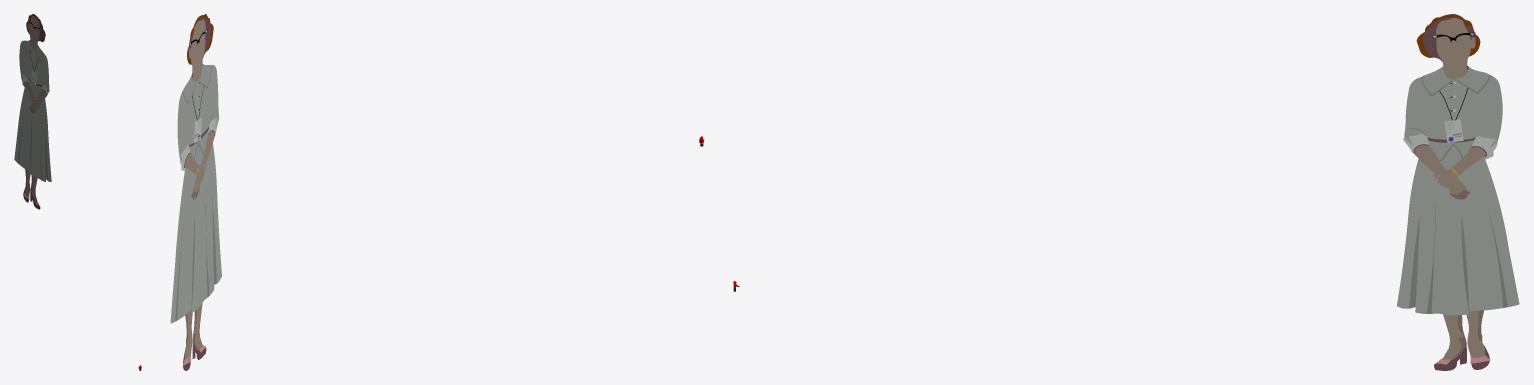
File: red guy test 1.3ds.glb
The picture shows the model from 3 angles, left to right: view 1: azimuth 30°, elevation 25°; view 2: azimuth 150°, elevation 25°; view 3: azimuth 270°, elevation 25°; orthographic projection. The views are drawn at different scales.
Parts seen in each view (by area): view 1: Katherine_; view 2: Katherine_; view 3: Katherine_.
Boxes of the visible parts, x1,y1,x2,y2 form: Katherine_: (14,14,51,209); Katherine_: (170,14,221,370); Katherine_: (1397,14,1519,370).
Bounding box in the file's own units: 209 × 422 × 842.
Materials: 30 (2 with a texture image).
